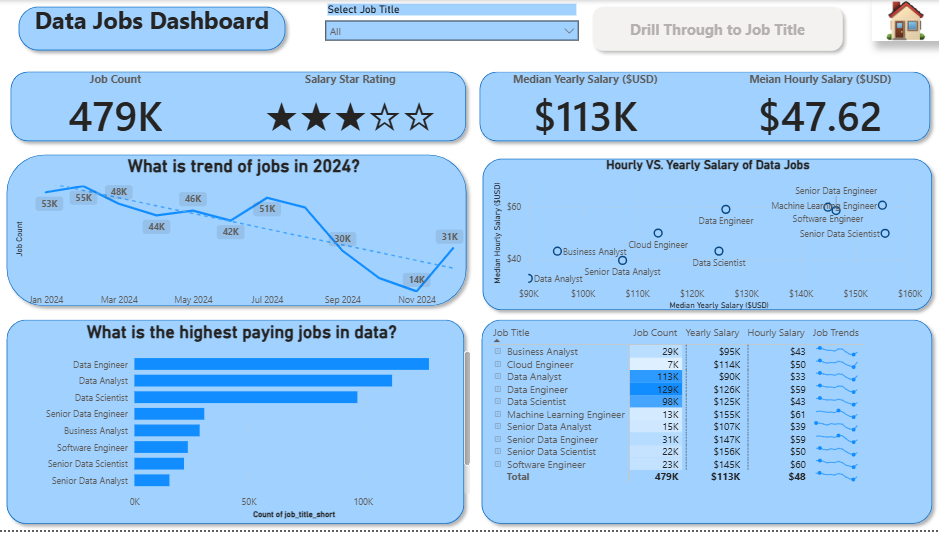

Layout of this report page (visuals, bound fields, positions):
{"tool":"powerbi","page":{"name":"Data Jobs Dashboard","canvas":[1280,720],"ordinal":0},"visuals":[{"type":"shape","box":[8.7,88.4,636.5,112.7],"z":0},{"type":"textbox","box":[10.3,0,396.6,77.6],"z":1000},{"type":"shape","box":[645.2,88.4,630.2,112.7],"z":2000},{"type":"slicer","fields":{"Values":["job_postings_flat.job_title_short"]},"box":[434.5,0,363.8,77.6],"z":3000},{"type":"shape","box":[2.3,201.1,642.9,223.8],"z":4000},{"type":"cardVisual","fields":{"Data":["Median(job_postings_flat.salary_hour_avg)"]},"box":[957.1,77.8,319,134.9],"z":5000},{"type":"shape","box":[649.9,205.8,628.6,223.8],"z":6000},{"type":"cardVisual","fields":{"Data":["CountNonNull(job_postings_flat.job_title_short)"]},"box":[0,77.8,319,134.9],"z":7000},{"type":"shape","box":[2.3,425.6,639.5,295.3],"z":8000},{"type":"cardVisual","fields":{"Data":["job_postings_flat.Salary Star Rating"]},"box":[319,77.8,319,134.9],"z":9000},{"type":"shape","box":[648.4,424.9,630.2,295.2],"z":10000},{"type":"cardVisual","fields":{"Data":["Median(job_postings_flat.salary_year_avg)"]},"box":[638.1,77.8,319,134.9],"z":11000},{"type":"lineChart","title":"What is trend of jobs in 2024?","fields":{"Y":["CountNonNull(job_postings_flat.job_title_short)"],"Category":["job_postings_flat.job_posted_date.Variation.Date Hierarchy.Year","job_postings_flat.job_posted_date.Variation.Date Hierarchy.Quarter","job_postings_flat.job_posted_date.Variation.Date Hierarchy.Month","job_postings_flat.job_posted_date.Variation.Date Hierarchy.Day"]},"box":[18.6,211.6,630.2,214],"z":12000},{"type":"barChart","title":"What is the highest paying jobs in data?","fields":{"Category":["job_postings_flat.job_title_short"],"Y":["CountNonNull(job_postings_flat.job_title_short)"]},"box":[16.3,437.2,630.2,272.1],"z":13000},{"type":"scatterChart","title":"Hourly VS. Yearly Salary of Data Jobs","fields":{"X":["Median(job_postings_flat.salary_year_avg)"],"Y":["Median(job_postings_flat.salary_hour_avg)"],"Series":["job_postings_flat.job_title_short"]},"box":[668.3,212.7,592.1,212.7],"z":14000},{"type":"pivotTable","fields":{"Rows":["job_postings_flat.job_title_short","job_postings_flat.job_posted_date.Variation.Date Hierarchy.Quarter"],"Values":["CountNonNull(job_postings_flat.job_title_short)","Median(job_postings_flat.salary_year_avg)","Median(job_postings_flat.salary_hour_avg)","SparklineData(CountNonNull(job_postings_flat.job_title_short)_[job_postings_flat.job_posted_date.Variation.Date Hierarch"]},"box":[662.8,437.2,611.6,283.7],"z":15000},{"type":"actionButton","box":[836.6,0,357.5,77.2],"z":16000},{"type":"image","box":[1187.3,0,92.1,55.6],"z":17000}]}

Visuals, with their boxes in screenshot pixels (x1, y1, x2, y2), scaled from the page's 1280x720 canvas onto the 939x533 screenshot:
shape: left=6, top=65, right=473, bottom=149
textbox: left=8, top=0, right=298, bottom=57
shape: left=473, top=65, right=936, bottom=149
slicer - job_postings_flat.job_title_short: left=319, top=0, right=586, bottom=57
shape: left=2, top=149, right=473, bottom=315
cardVisual - Median(job_postings_flat.salary_hour_avg): left=702, top=58, right=936, bottom=157
shape: left=477, top=152, right=938, bottom=318
cardVisual - CountNonNull(job_postings_flat.job_title_short): left=0, top=58, right=234, bottom=157
shape: left=2, top=315, right=471, bottom=532
cardVisual - job_postings_flat.Salary Star Rating: left=234, top=58, right=468, bottom=157
shape: left=476, top=315, right=938, bottom=532
cardVisual - Median(job_postings_flat.salary_year_avg): left=468, top=58, right=702, bottom=157
"What is trend of jobs in 2024?" lineChart: left=14, top=157, right=476, bottom=315
"What is the highest paying jobs in data?" barChart: left=12, top=324, right=474, bottom=525
"Hourly VS. Yearly Salary of Data Jobs" scatterChart: left=490, top=157, right=925, bottom=315
pivotTable - job_postings_flat.job_title_short x job_postings_flat.job_posted_date.Variation.Date Hierarchy.Quarter: left=486, top=324, right=935, bottom=532
actionButton: left=614, top=0, right=876, bottom=57
image: left=871, top=0, right=938, bottom=41
